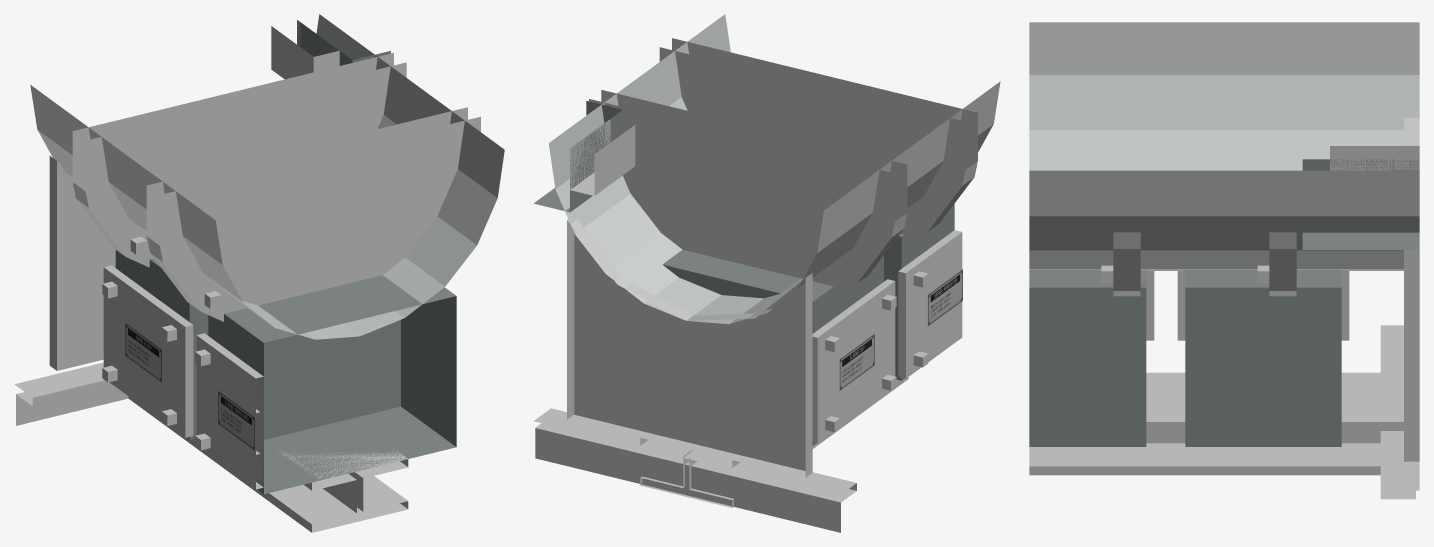
File: cell_62.obj
3 views of the same model, side by side, from view 1: azimuth 30°, elevation 25°; view 2: azimuth 150°, elevation 25°; view 3: azimuth 270°, elevation 25° (orthographic). The views are drawn at different scales.
Bounding box in the file's own units: 1 × 1 × 1.
